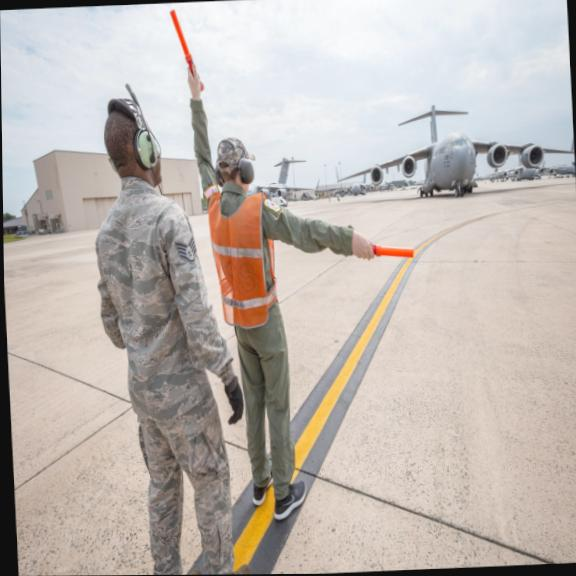no_safety_vest: (92, 184, 215, 427)
safety_vest: (200, 188, 285, 329)
